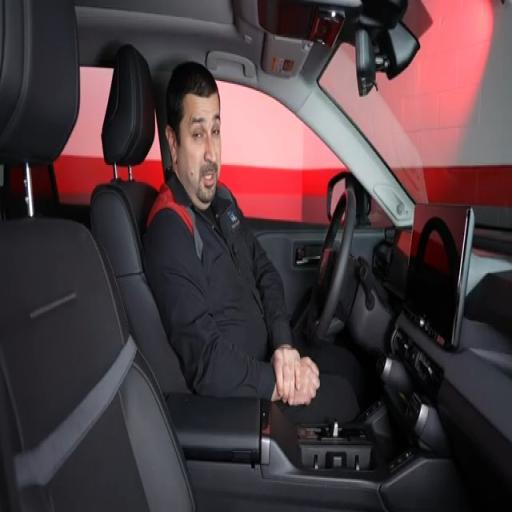side_mirror: (327, 171, 371, 226), (356, 29, 375, 96)
window: (218, 82, 344, 224)
windshield: (320, 0, 511, 223)
